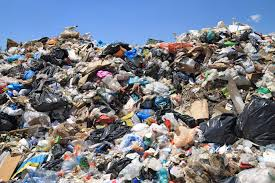garbage: (4, 31, 275, 182)
